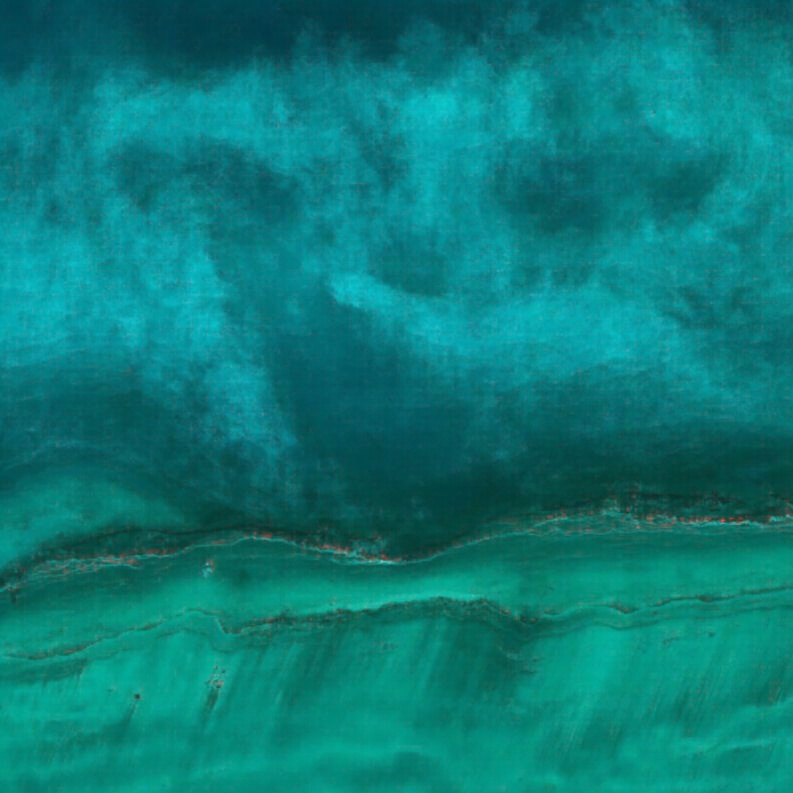rip_current: (114, 97, 484, 485)
